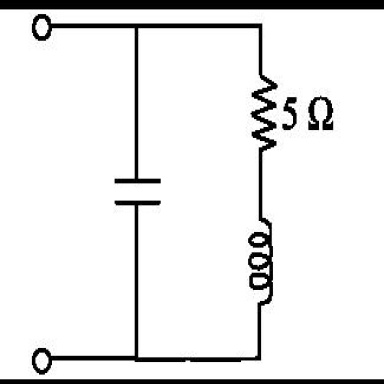Capactitor: (111, 176, 164, 208)
Inductor: (246, 217, 275, 305)
Resistor: (249, 75, 278, 152)
